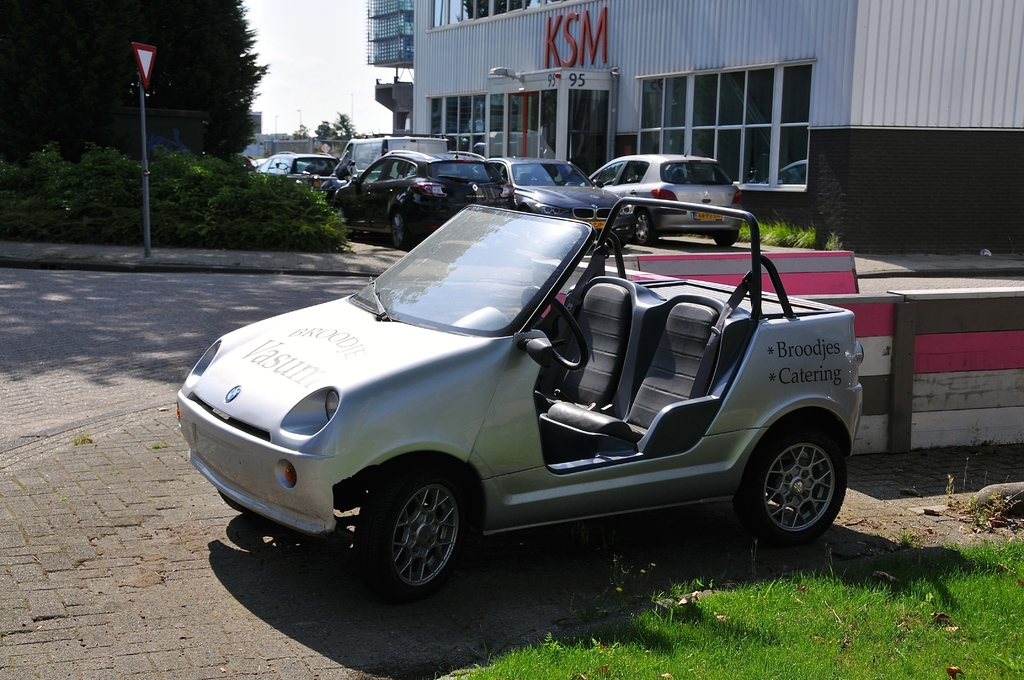Car: (202, 171, 870, 596), (240, 129, 746, 241)
